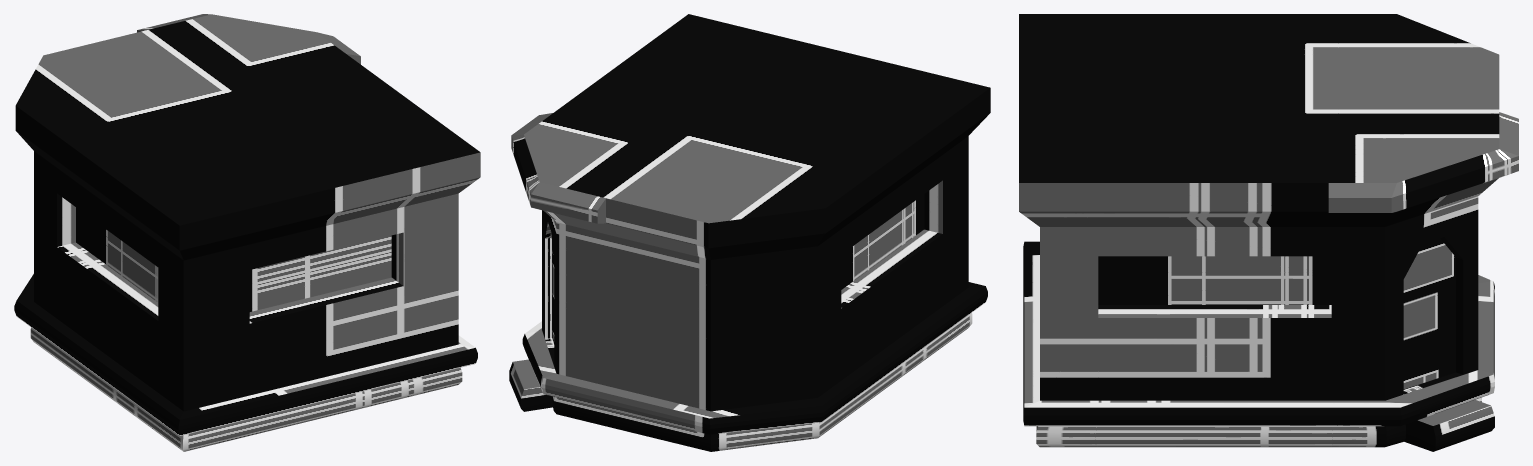
Rendered from BuildingGGJ 1.fbx.
The picture shows the model from 3 angles, left to right: view 1: azimuth 30°, elevation 25°; view 2: azimuth 150°, elevation 25°; view 3: azimuth 270°, elevation 25°; orthographic projection. The views are drawn at different scales.
Visible parts, largest first — view 1: pCube17; view 2: pCube17; view 3: pCube17.
Part boxes in pixels (x1,y1,x2,y2): pCube17: [14, 14, 480, 451]; pCube17: [509, 14, 990, 451]; pCube17: [1019, 14, 1518, 451].
Bounding box in the file's own units: 16.26 × 11.62 × 19.39.
